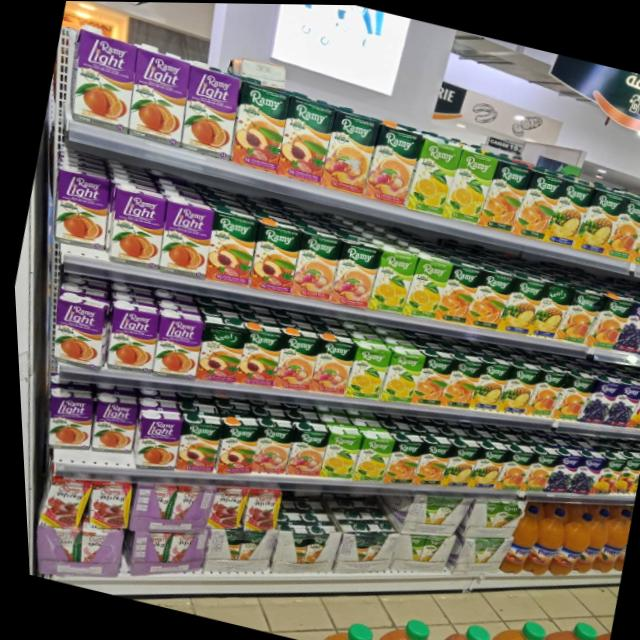ramy_carton: (57, 24, 148, 133), (115, 42, 198, 146), (169, 59, 246, 159), (37, 274, 117, 370), (39, 161, 119, 254), (96, 178, 174, 271), (222, 76, 294, 173), (90, 287, 165, 379), (268, 91, 340, 185), (147, 192, 218, 280), (315, 107, 384, 196), (191, 202, 261, 289), (140, 298, 208, 384), (397, 131, 464, 217), (239, 214, 307, 298), (118, 393, 187, 475), (357, 119, 422, 206), (185, 308, 250, 390), (506, 162, 569, 245), (32, 377, 98, 456), (443, 144, 505, 228), (279, 223, 342, 305), (78, 384, 143, 463), (567, 179, 629, 259), (204, 407, 269, 483), (324, 233, 386, 312), (357, 239, 418, 319), (264, 321, 325, 398), (230, 318, 289, 394), (542, 170, 600, 247), (429, 256, 489, 330), (578, 282, 638, 356), (397, 248, 455, 324), (271, 412, 331, 485), (239, 412, 299, 485), (487, 266, 548, 337), (299, 327, 357, 401), (303, 415, 362, 487), (338, 418, 396, 489), (465, 262, 523, 333), (335, 333, 392, 405), (524, 272, 580, 345), (480, 154, 530, 235), (372, 337, 427, 407), (29, 469, 88, 534), (73, 474, 129, 534), (407, 344, 460, 407), (595, 188, 640, 262), (512, 437, 563, 500), (166, 415, 218, 474), (430, 353, 481, 413), (463, 350, 514, 410), (555, 283, 602, 347), (490, 363, 539, 421), (459, 436, 506, 496), (572, 370, 622, 426), (546, 368, 595, 425), (536, 443, 585, 500), (230, 481, 280, 536), (602, 288, 640, 357), (379, 426, 421, 486), (403, 435, 448, 490), (581, 449, 624, 500), (490, 440, 531, 492), (436, 435, 474, 490), (202, 484, 244, 531), (627, 197, 640, 270)
ramy_plastique: (492, 499, 540, 577), (543, 505, 591, 580), (566, 501, 611, 576), (586, 503, 629, 575), (520, 511, 559, 576)
